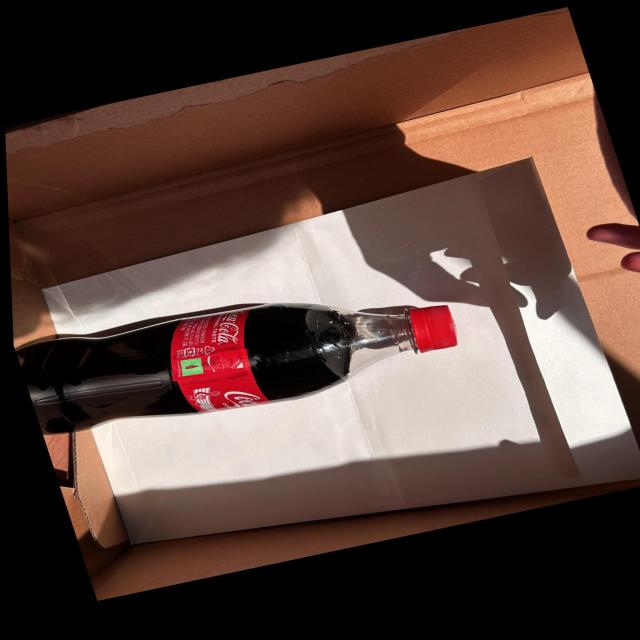high: (16, 304, 456, 433)
